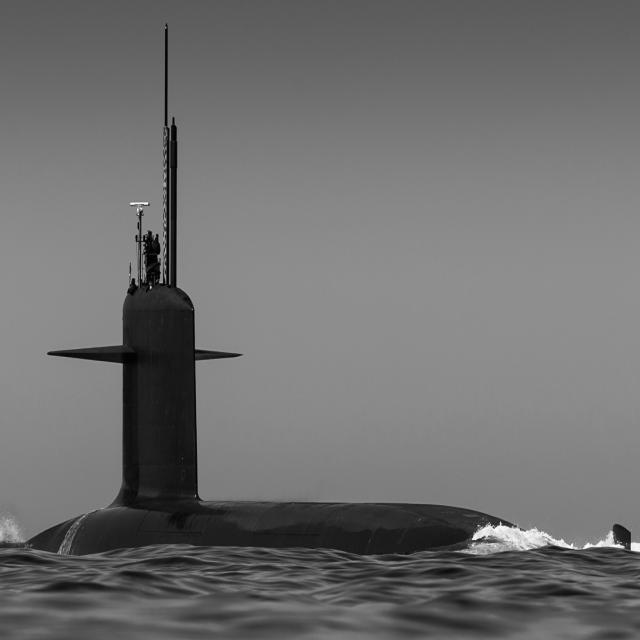submarine: (1, 7, 640, 562)
